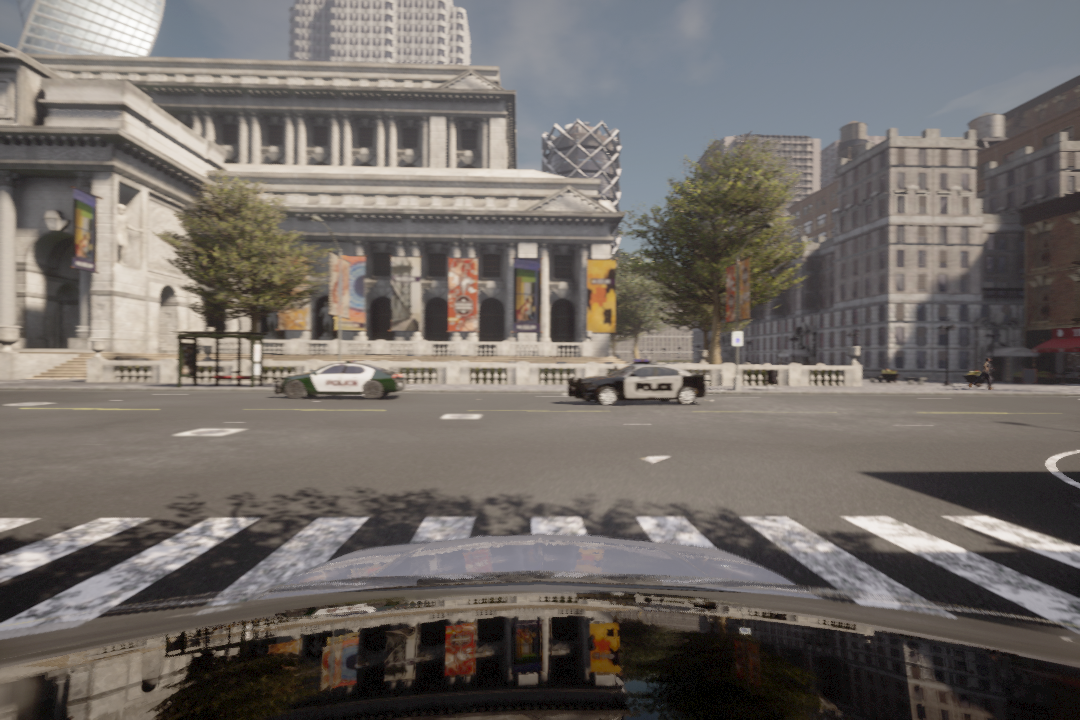walkside: (1, 511, 1078, 647)
